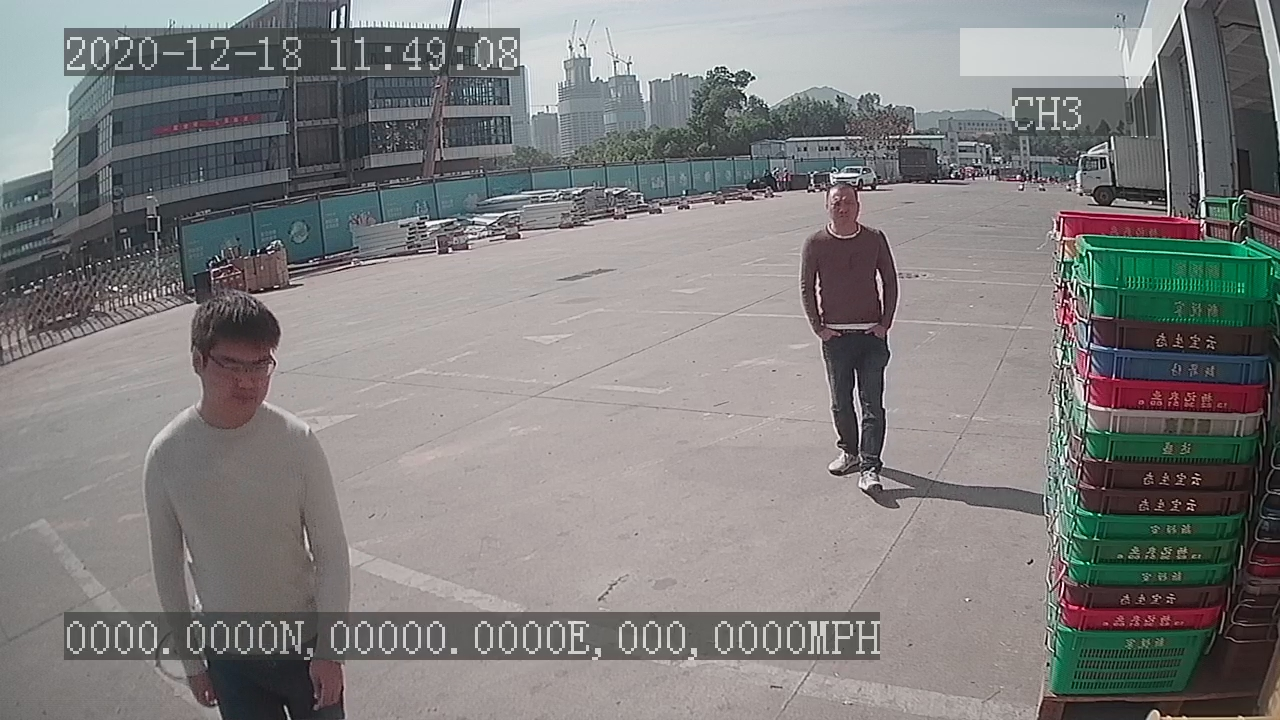person: (797, 179, 902, 499)
